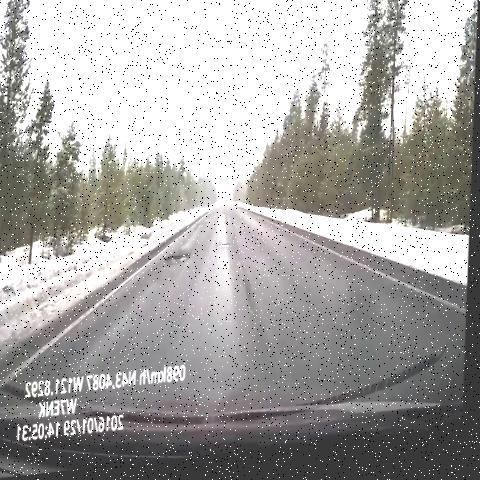pothole: (163, 247, 195, 275), (212, 240, 237, 260)
